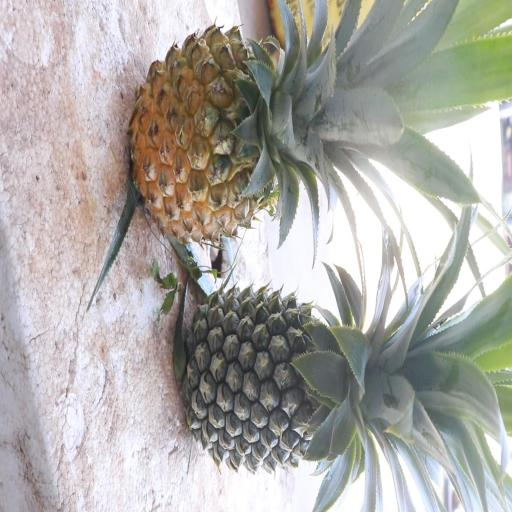Pineapple - v8 v1: (131, 30, 442, 235)
